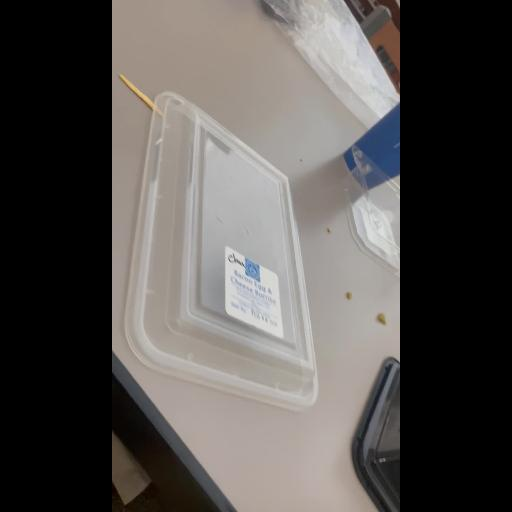rigid_plastic_lid: (123, 90, 329, 422)
